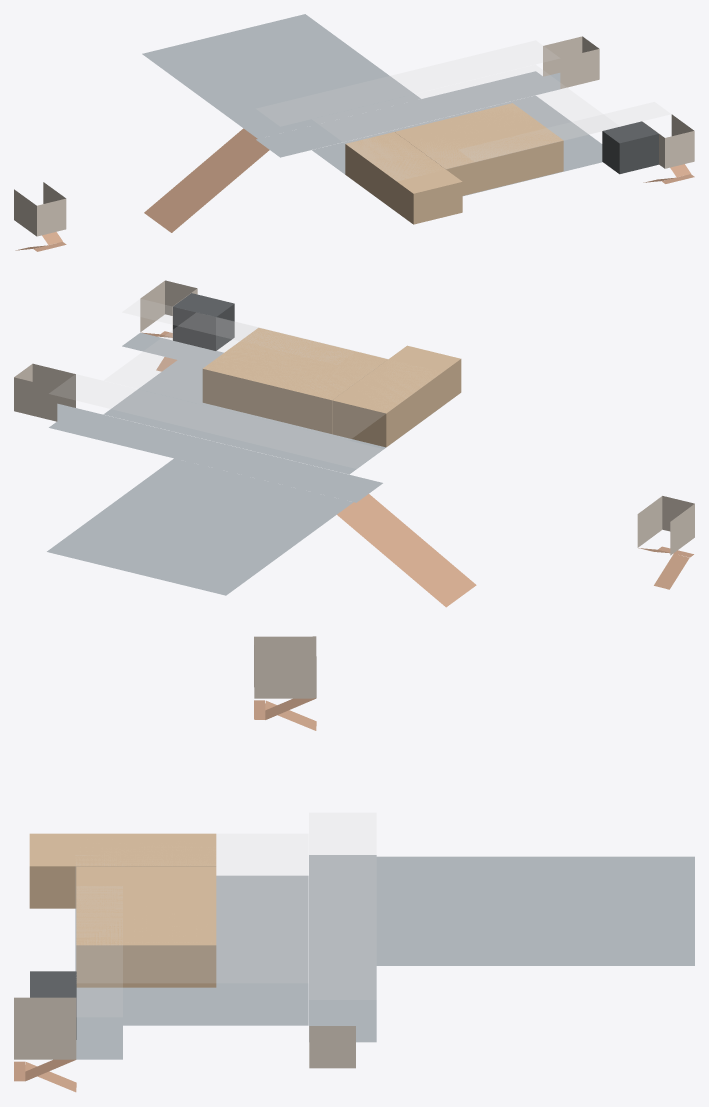
3 renders of one model, top to bottom at view 1: azimuth 30°, elevation 25°; view 2: azimuth 150°, elevation 25°; view 3: azimuth 270°, elevation 25°, orthographic. The views are drawn at different scales.
Visible parts, largest first — view 1: 立方體.001, 立方體.163, 立方體.099, 立方體.161, 平面.002, 平面.003, 立方體.002, 立方體.174, 平面, 立方體.170, 立方體.167, 立方體.180 (+2 smaller); view 2: 立方體.001, 立方體.163, 立方體.099, 立方體.174, 立方體.161, 平面.002, 平面.003, 立方體.002, 立方體.170, 立方體.167, 立方體.180, 平面 (+3 smaller); view 3: 立方體.001, 立方體.174, 立方體.163, 立方體.099, 平面.003, 平面.002, 立方體.161, 立方體.180, 立方體.177, 平面, 立方體.167, 平面.001 (+1 smaller).
Part boxes in pixels (bbox=[...]): 立方體.001: bbox=[142, 14, 420, 138]; 立方體.163: bbox=[312, 65, 618, 180]; 立方體.099: bbox=[395, 103, 563, 195]; 立方體.161: bbox=[345, 132, 462, 224]; 平面.002: bbox=[256, 71, 559, 157]; 平面.003: bbox=[257, 41, 558, 125]; 立方體.002: bbox=[144, 128, 269, 232]; 立方體.174: bbox=[312, 95, 602, 196]; 平面: bbox=[459, 102, 669, 161]; 立方體.170: bbox=[602, 121, 658, 174]; 立方體.167: bbox=[543, 36, 599, 88]; 立方體.180: bbox=[14, 182, 66, 236]; 立方體.001: bbox=[47, 458, 353, 595]; 立方體.163: bbox=[104, 313, 405, 439]; 立方體.099: bbox=[202, 327, 387, 433]; 立方體.174: bbox=[103, 346, 386, 474]; 立方體.161: bbox=[332, 345, 461, 447]; 平面.002: bbox=[49, 408, 382, 502]; 平面.003: bbox=[49, 374, 382, 468]; 立方體.002: bbox=[337, 494, 476, 607]; 立方體.170: bbox=[173, 293, 234, 350]; 立方體.167: bbox=[14, 363, 75, 421]; 立方體.180: bbox=[637, 496, 694, 555]; 平面: bbox=[123, 299, 330, 360]; 立方體.001: bbox=[376, 856, 694, 965]; 立方體.174: bbox=[75, 875, 308, 1025]; 立方體.163: bbox=[76, 834, 307, 982]; 立方體.099: bbox=[76, 866, 216, 987]; 平面.003: bbox=[309, 813, 375, 999]; 平面.002: bbox=[309, 855, 376, 1042]; 立方體.161: bbox=[29, 833, 216, 908]; 立方體.180: bbox=[254, 636, 316, 698]; 立方體.177: bbox=[14, 997, 76, 1059]; 平面: bbox=[77, 886, 122, 1016]; 立方體.167: bbox=[309, 1026, 355, 1068]; 平面.001: bbox=[76, 993, 122, 1059].
Bounding box in the file's own units: 59.27 × 8.89 × 43.79.
